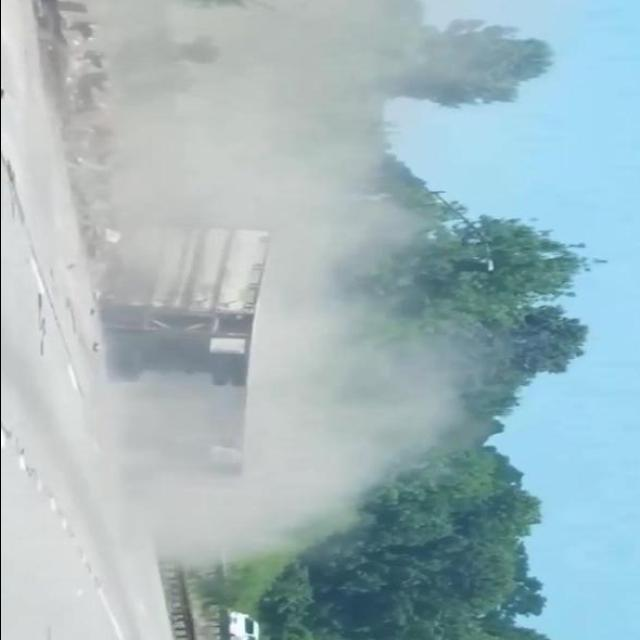accident: (90, 195, 283, 488)
